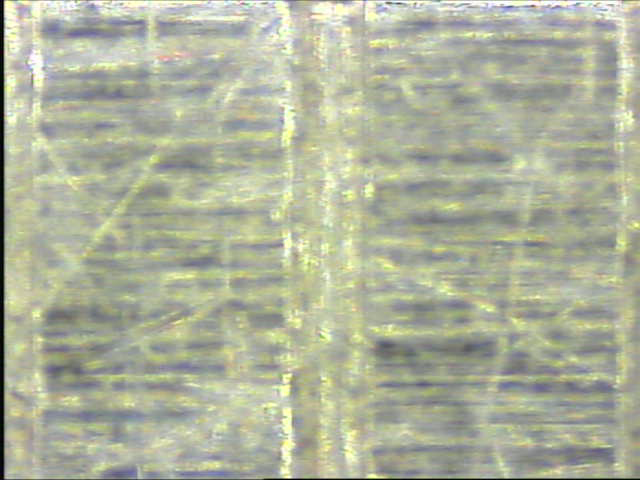line: (278, 3, 372, 475)
